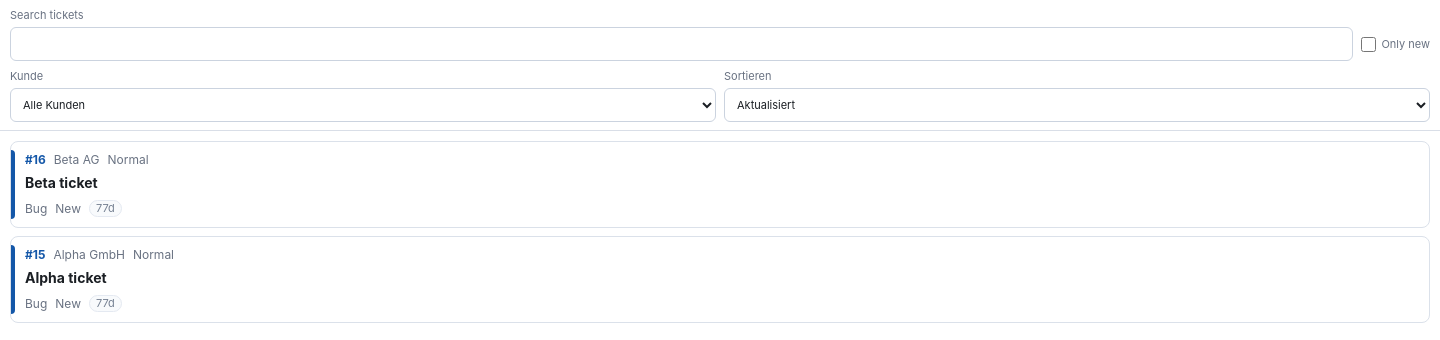
Test: TicketList › filters tickets by customer project
Select "Beta AG" in the dropdown labelled "Kunde" at (363, 105), box left=10, top=88, right=716, bottom=122
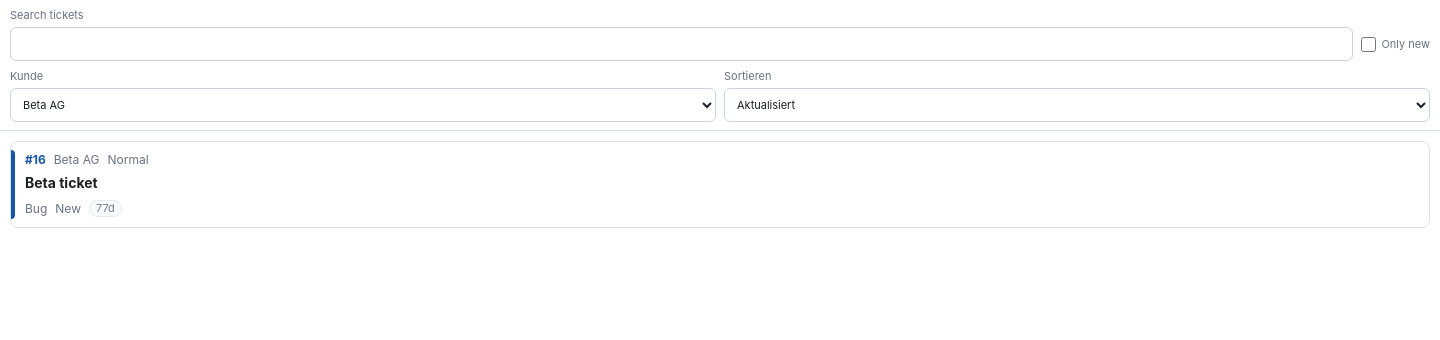
Expected: the text "Beta ticket" is shown, left=25, top=174, right=98, bottom=193
Now the button "Alpha ticket" is gone
